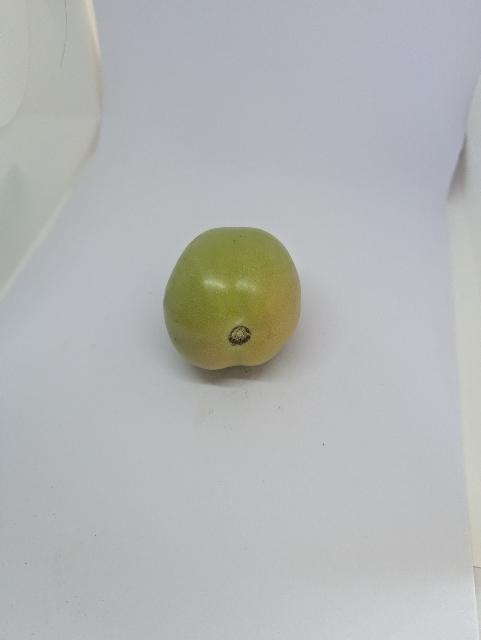green: (160, 209, 314, 395)
